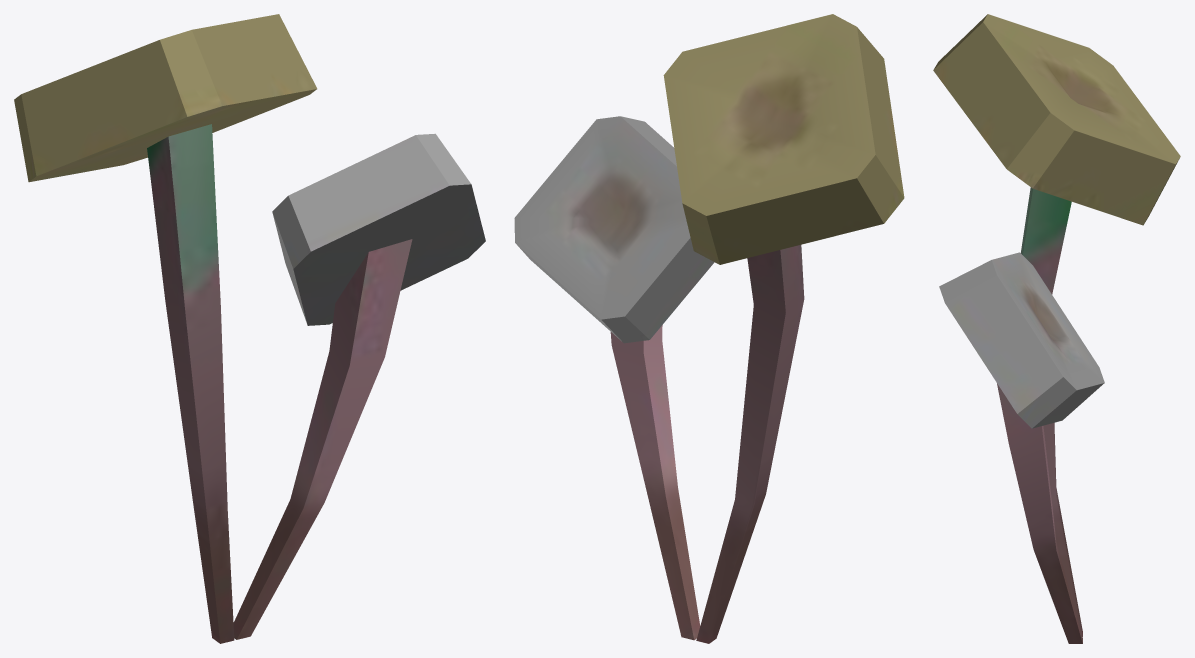
Rendered from FOL_Flower_MID_03.obj.
3 renders of one model, left to right at view 1: azimuth 30°, elevation 25°; view 2: azimuth 150°, elevation 25°; view 3: azimuth 270°, elevation 25°, orthographic. The views are drawn at different scales.
Visible parts, largest first — view 1: FOL_Flower_MID_03; view 2: FOL_Flower_MID_03; view 3: FOL_Flower_MID_03.
Boxes of the visible parts, x1=… form: FOL_Flower_MID_03: x1=14, y1=14, x2=485, y2=643; FOL_Flower_MID_03: x1=514, y1=14, x2=904, y2=643; FOL_Flower_MID_03: x1=933, y1=14, x2=1180, y2=643.
Bounding box in the file's own units: 0.2651 × 0.3935 × 0.1533.
1 material, 1 textured.
